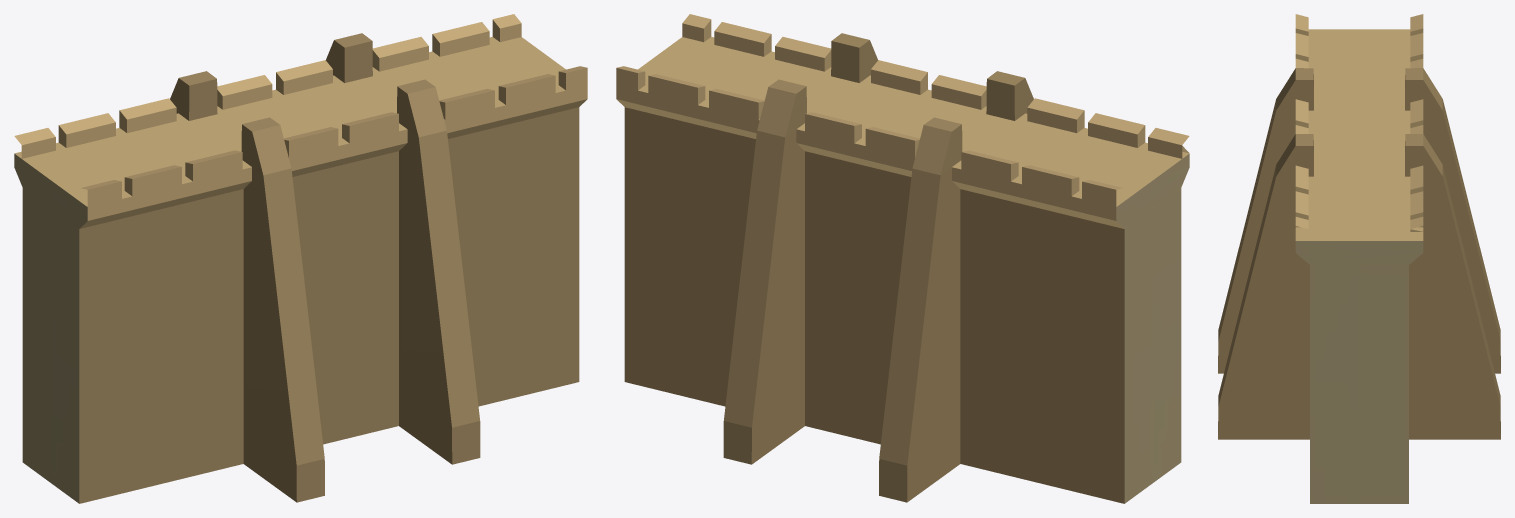
The model's file is wall.glb.
The picture shows the model from 3 angles, left to right: view 1: azimuth 30°, elevation 25°; view 2: azimuth 150°, elevation 25°; view 3: azimuth 270°, elevation 25°; orthographic projection. The views are drawn at different scales.
Visible parts, largest first — view 1: wall; view 2: wall; view 3: wall.
Boxes of the visible parts, bbox=[...] form: wall: bbox=[14, 14, 587, 503]; wall: bbox=[616, 14, 1189, 503]; wall: bbox=[1218, 14, 1500, 503].
Bounding box in the file's own units: 13.38 × 8.65 × 7.55.
Materials: 1 (1 with a texture image).
